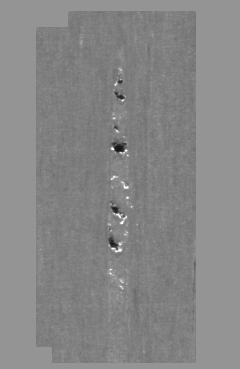oxl: (35, 10, 205, 359)
